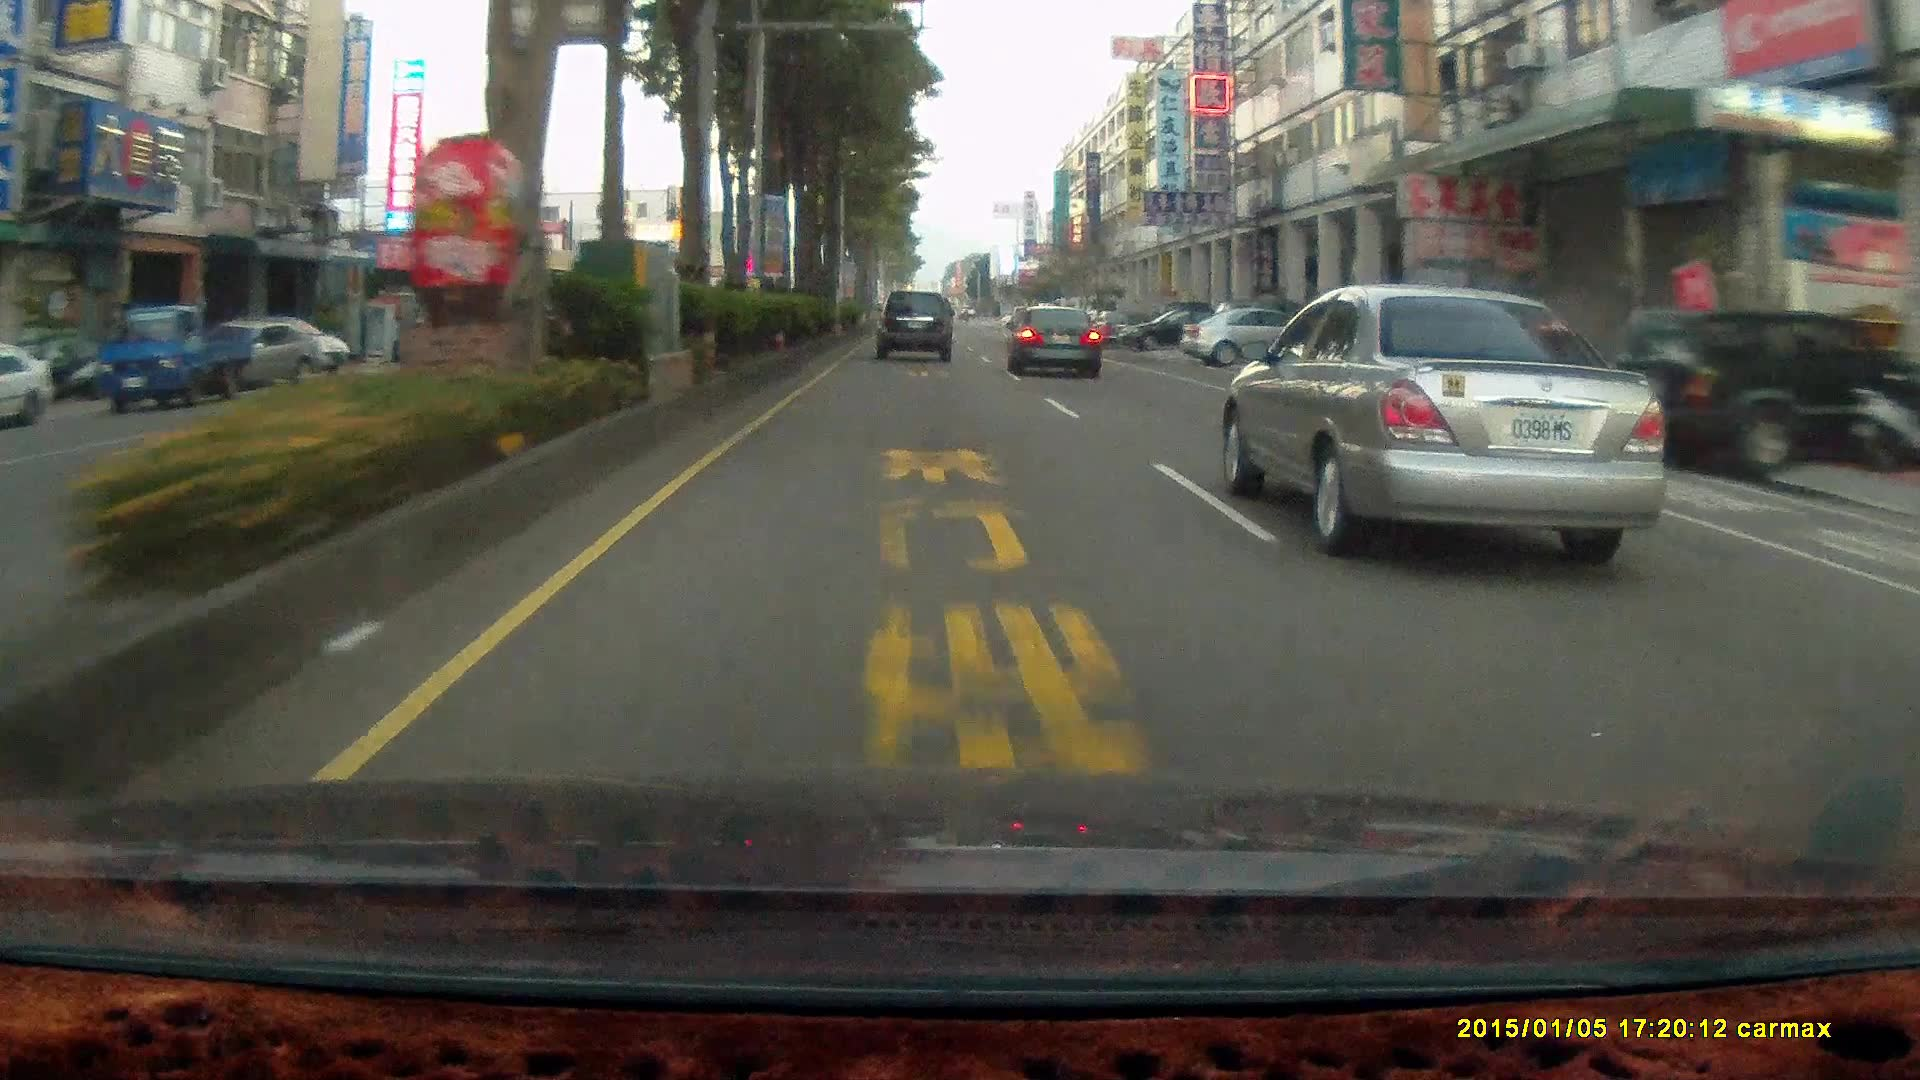vehicle: (1226, 286, 1691, 559), (1611, 305, 1919, 472), (1613, 311, 1920, 473), (91, 301, 251, 411), (100, 306, 257, 407), (1300, 313, 1445, 417), (179, 319, 320, 390), (1180, 307, 1337, 368), (1004, 302, 1101, 376), (1007, 303, 1102, 378), (874, 290, 956, 365), (872, 291, 955, 361), (1117, 303, 1232, 349), (0, 347, 53, 431)
